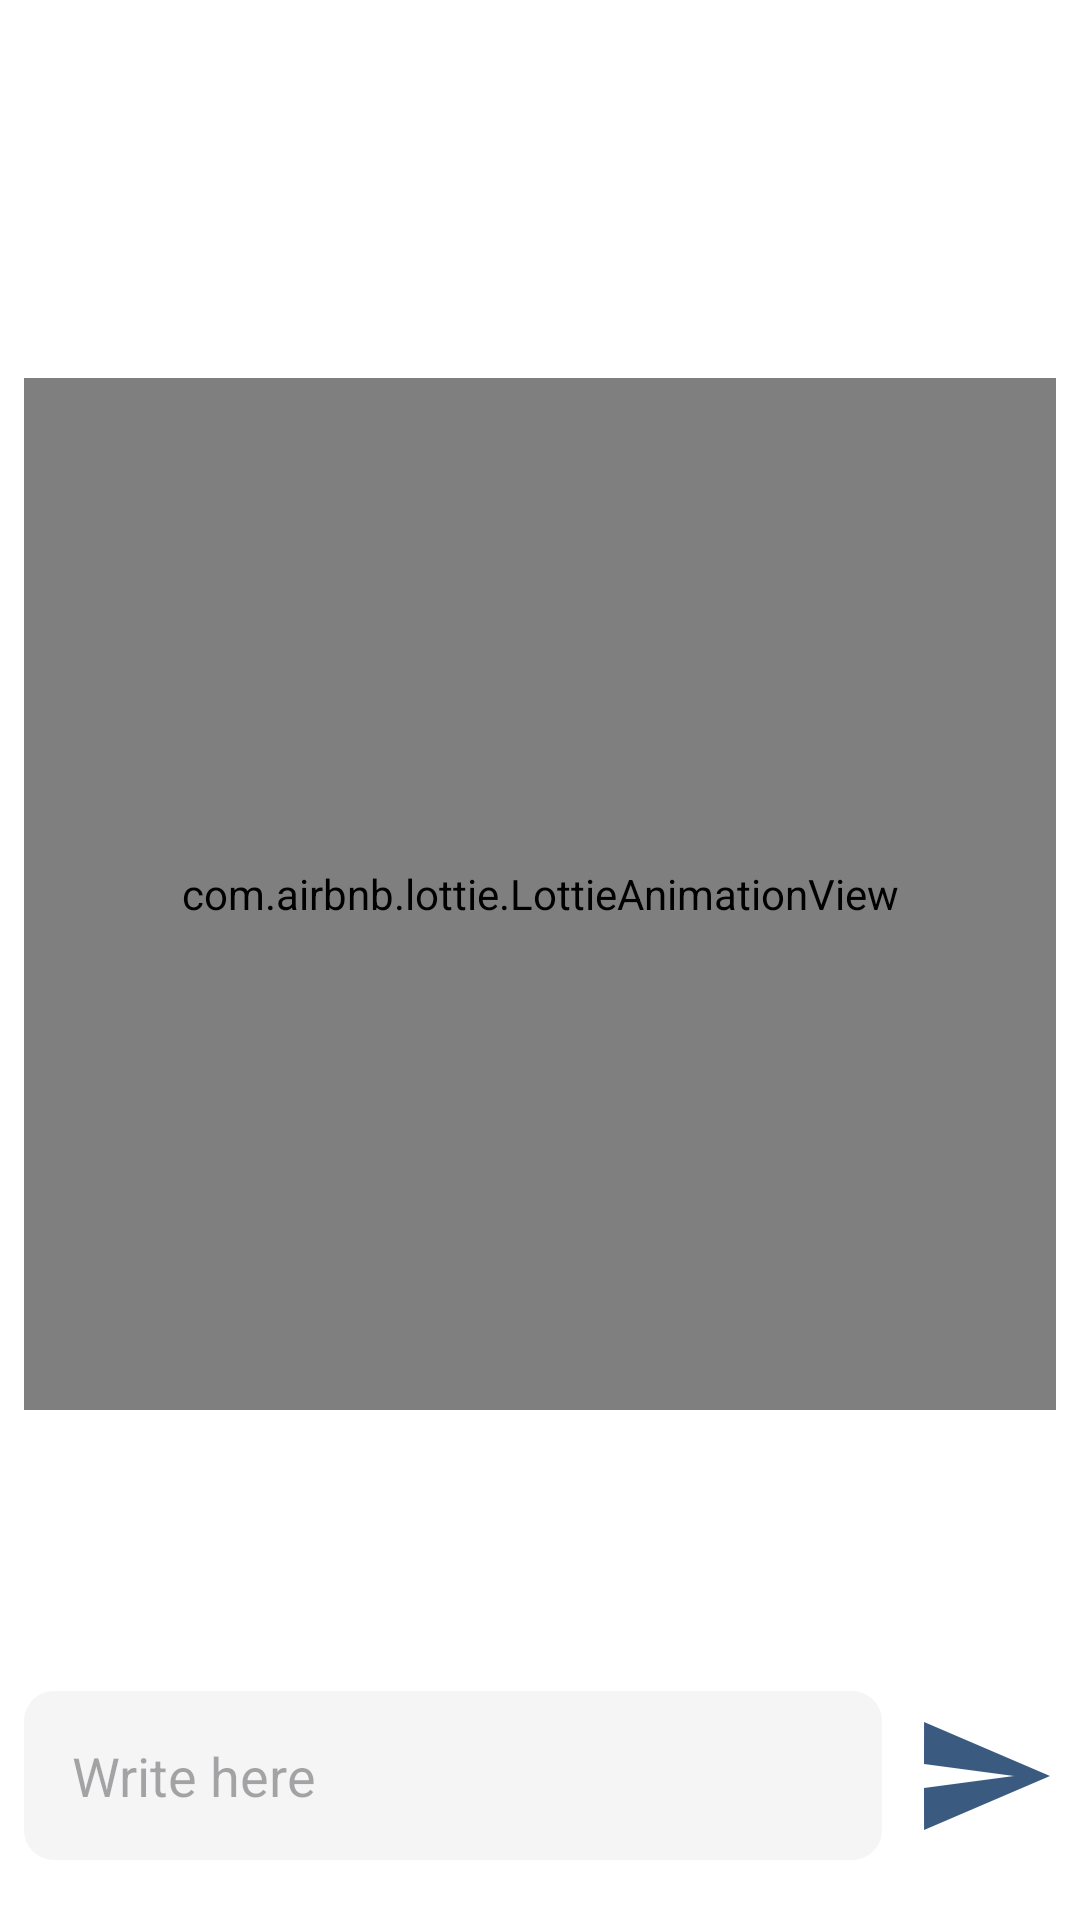

Point at icon controls on the screen. Image size 1080 x 1920, points as point (x, y).
send: point (987, 1776)
